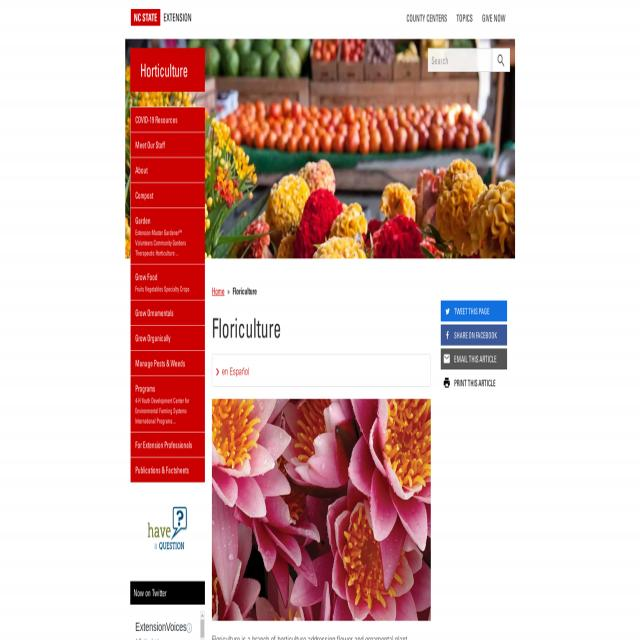button: (212, 399, 432, 621), (213, 354, 430, 386), (148, 507, 188, 551), (441, 300, 507, 322), (441, 325, 507, 345), (441, 349, 507, 369), (441, 373, 507, 393), (402, 6, 452, 30), (130, 9, 195, 26), (477, 6, 510, 30), (452, 6, 477, 30), (492, 48, 510, 72), (200, 618, 204, 638), (186, 622, 192, 632), (200, 611, 205, 619)
field: (428, 48, 492, 72)
